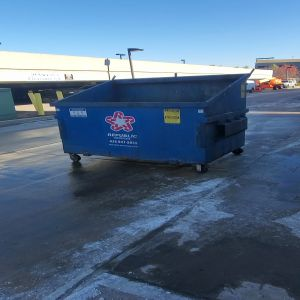Dumpster: (53, 76, 254, 174)
